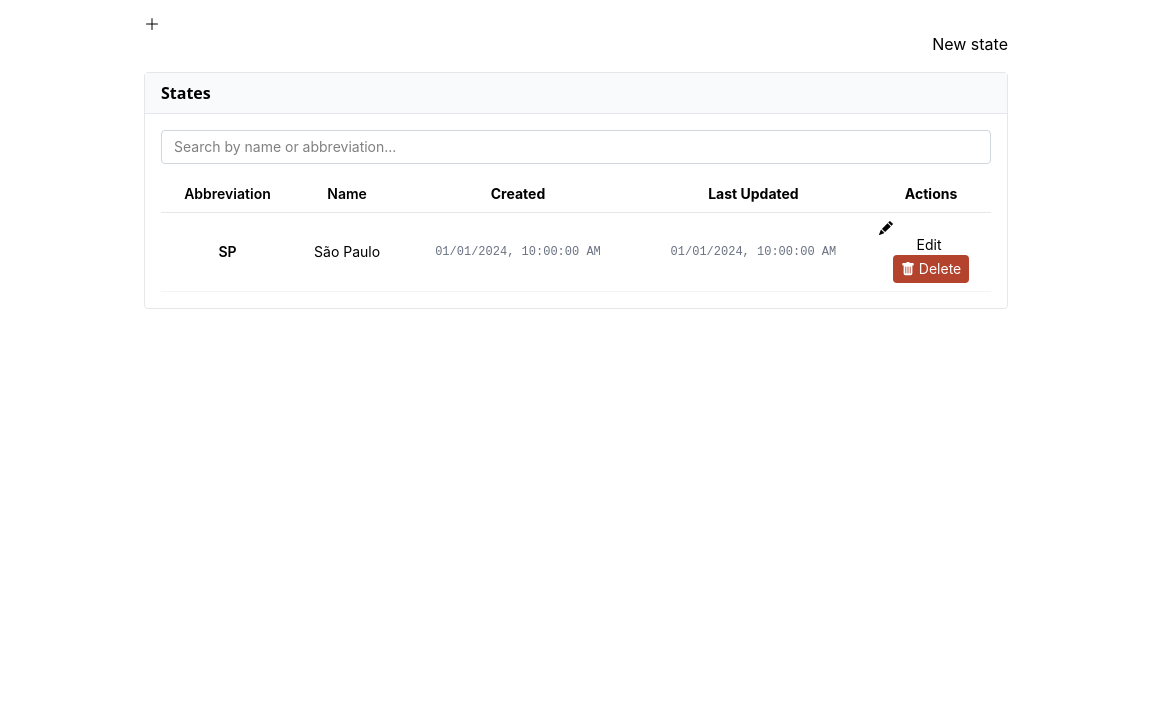
Test: StateList (app/page.tsx) › shows an error message when deletion fails
Click the button with aria-label "Delete SP". click: [931, 269]
box: [893,255,969,283]
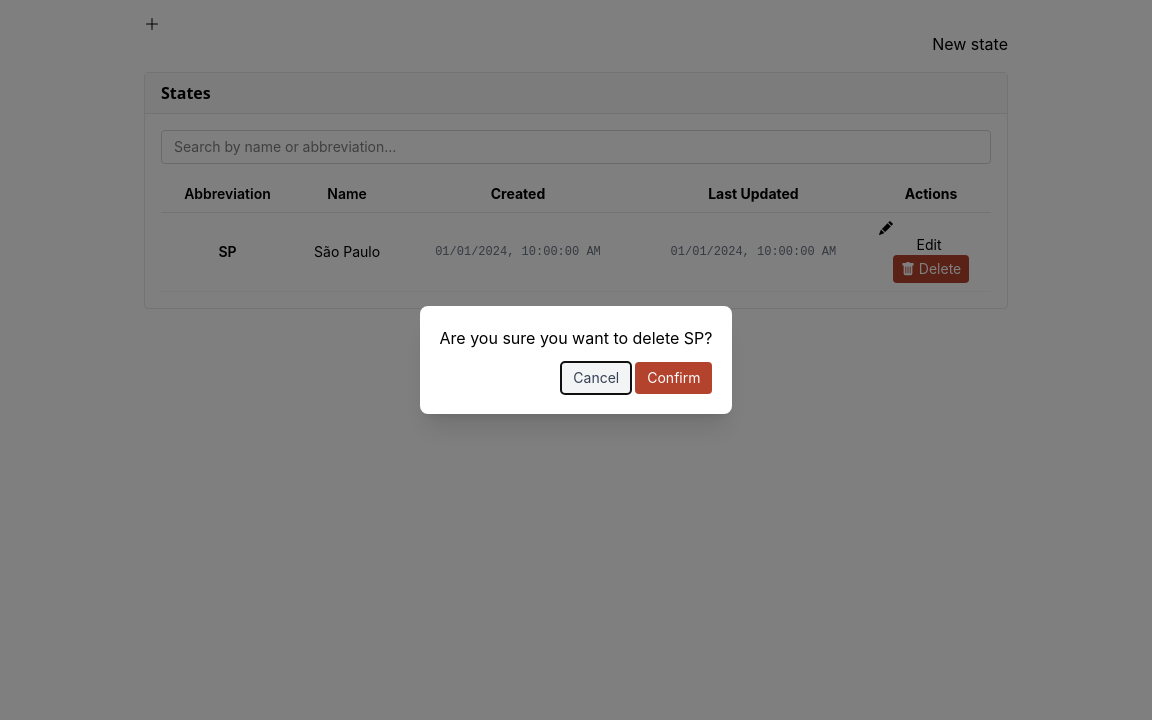
Click the button "Confirm". click: [674, 378]
box: [635,362,712,394]
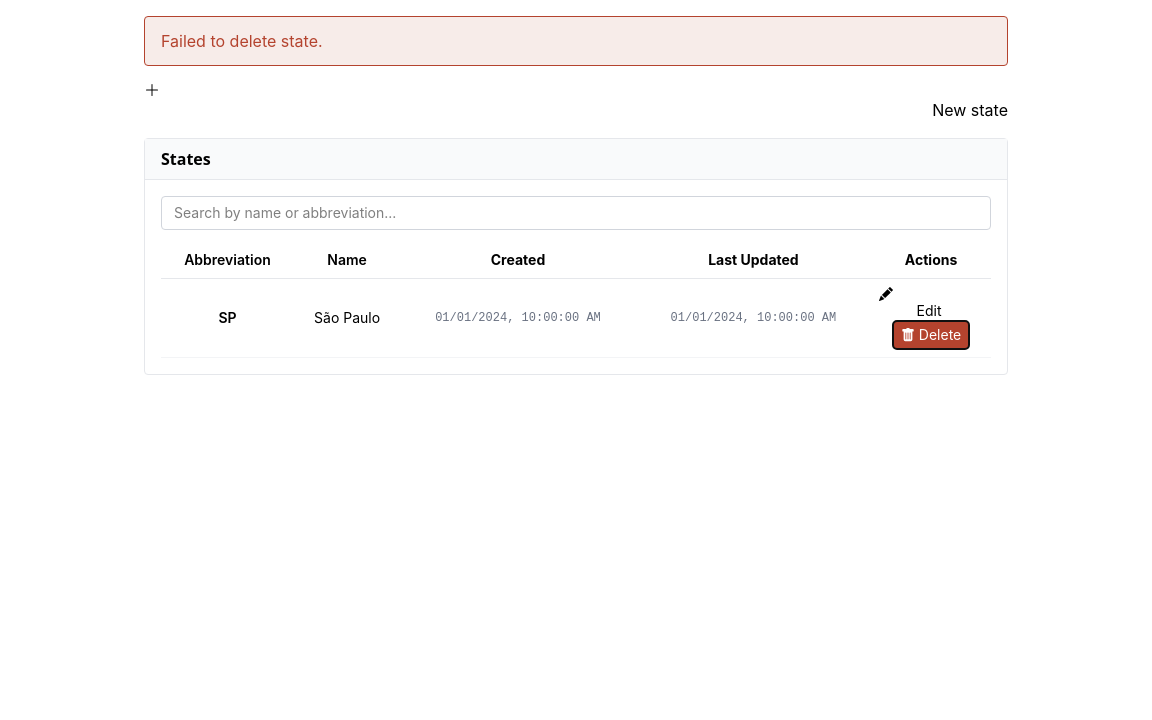
Now the text "Failed to delete state." is shown, box [144,16,1008,66]
